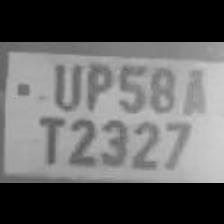2: (63, 114, 97, 166), (127, 114, 159, 169)
3: (97, 114, 127, 166)
5: (113, 60, 147, 110)
7: (158, 114, 192, 169)
8: (145, 62, 177, 113)
A: (178, 61, 210, 114)
P: (79, 59, 113, 109)
T: (30, 110, 66, 166)
U: (48, 57, 82, 107)
